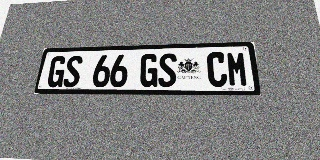6: (109, 54, 129, 87), (92, 55, 112, 87)
C: (207, 52, 228, 87)
G: (46, 56, 67, 87), (139, 54, 158, 87)
M: (226, 51, 249, 87)
S: (62, 56, 83, 87), (158, 53, 177, 87)
